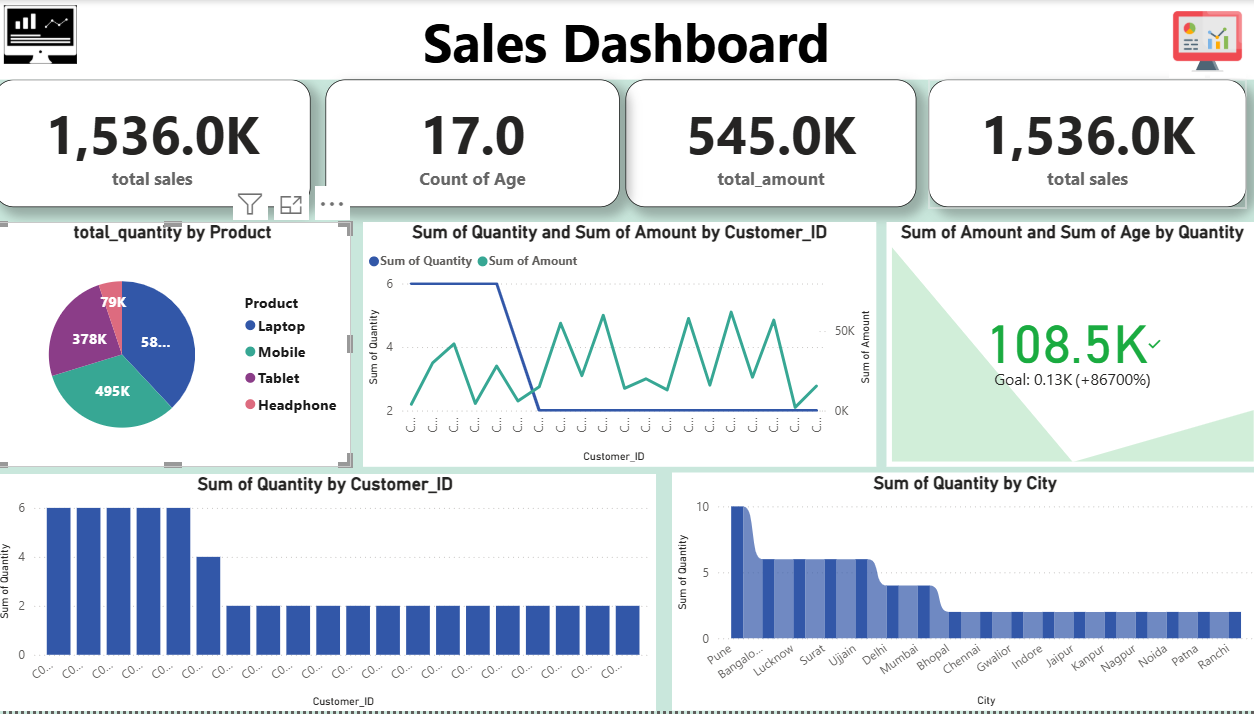

The dashboard page shown, as its layout file describes it:
{"tool":"powerbi","page":{"name":"data analysis","canvas":[1280,720],"ordinal":0},"visuals":[{"type":"columnChart","fields":{"Category":["customer table.Customer_ID"],"Y":["Sum(sales table.Quantity)"]},"box":[0,479.3,670.4,241.3],"z":0},{"type":"card","fields":{"Values":["Sum(sales table.Quantity)"]},"box":[0,81,320.6,129.5],"z":1000},{"type":"pieChart","title":"total_quantity by Product","fields":{"Category":["sales table.Product"],"Y":["Sum(sales table.Quantity)"]},"box":[0,225.1,361.1,254.2],"z":2000},{"type":"ribbonChart","fields":{"Category":["customer table.City"],"Y":["Sum(sales table.Quantity)"]},"box":[686.6,479.3,594.3,226.7],"z":3000},{"type":"textbox","box":[0,0,1280.8,81],"z":4000},{"type":"card","fields":{"Values":["Sum(sales table.Amount)"]},"box":[639.6,81,294.7,129.5],"z":5000},{"type":"card","fields":{"Values":["Count(customer table.Age)"]},"box":[335.2,81,297.9,129.5],"z":6000},{"type":"card","fields":{"Values":["sales table.total sales"]},"box":[947.2,81,322.2,129.5],"z":7000},{"type":"image","box":[0,0,93.9,69.6],"z":8000},{"type":"image","box":[1177.2,3.2,103.6,77.7],"z":9000},{"type":"kpi","fields":{"Indicator":["Sum(sales table.Amount)"],"TrendLine":["sales table.Quantity"],"Goal":["Sum(customer table.Age)"]},"box":[903.5,225.1,377.3,254.2],"z":10000},{"type":"lineChart","fields":{"Category":["sales table.Customer_ID"],"Y":["Sum(sales table.Quantity)"],"Y2":["Sum(sales table.Amount)"]},"box":[361.1,225.1,542.4,254.2],"z":11000}]}

Visuals, with their boxes in screenshot pixels (x1, y1, x2, y2), scaled from the page's 1280x720 canvas onto the 1254x714 screenshot:
columnChart - customer table.Customer_ID x Sum(sales table.Quantity): select_region(0, 475, 657, 713)
card - Sum(sales table.Quantity): select_region(0, 80, 314, 209)
"total_quantity by Product" pieChart: select_region(0, 223, 354, 475)
ribbonChart - customer table.City x Sum(sales table.Quantity): select_region(673, 475, 1253, 700)
textbox: select_region(0, 0, 1253, 80)
card - Sum(sales table.Amount): select_region(627, 80, 915, 209)
card - Count(customer table.Age): select_region(328, 80, 620, 209)
card - sales table.total sales: select_region(928, 80, 1244, 209)
image: select_region(0, 0, 92, 69)
image: select_region(1153, 3, 1253, 80)
kpi - Sum(sales table.Amount) x sales table.Quantity: select_region(885, 223, 1253, 475)
lineChart - sales table.Customer_ID x Sum(sales table.Quantity): select_region(354, 223, 885, 475)
